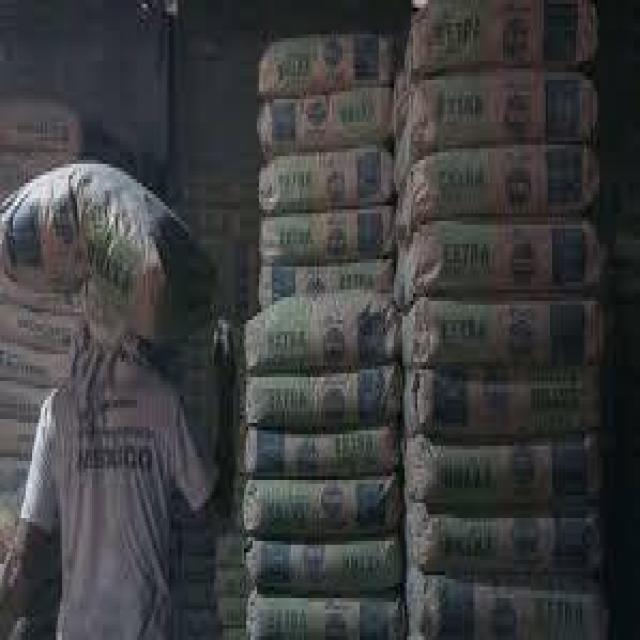gunny_bag: (395, 80, 592, 185), (401, 145, 592, 246), (399, 220, 595, 303), (405, 504, 601, 578), (400, 568, 597, 640), (401, 301, 595, 371), (402, 364, 590, 436), (402, 435, 597, 500), (254, 364, 392, 433), (250, 476, 387, 540), (258, 421, 397, 478), (270, 147, 382, 215), (268, 87, 385, 152), (260, 29, 388, 87), (253, 539, 387, 592), (270, 206, 386, 267), (247, 293, 396, 338), (4, 92, 73, 147), (3, 338, 70, 379)
